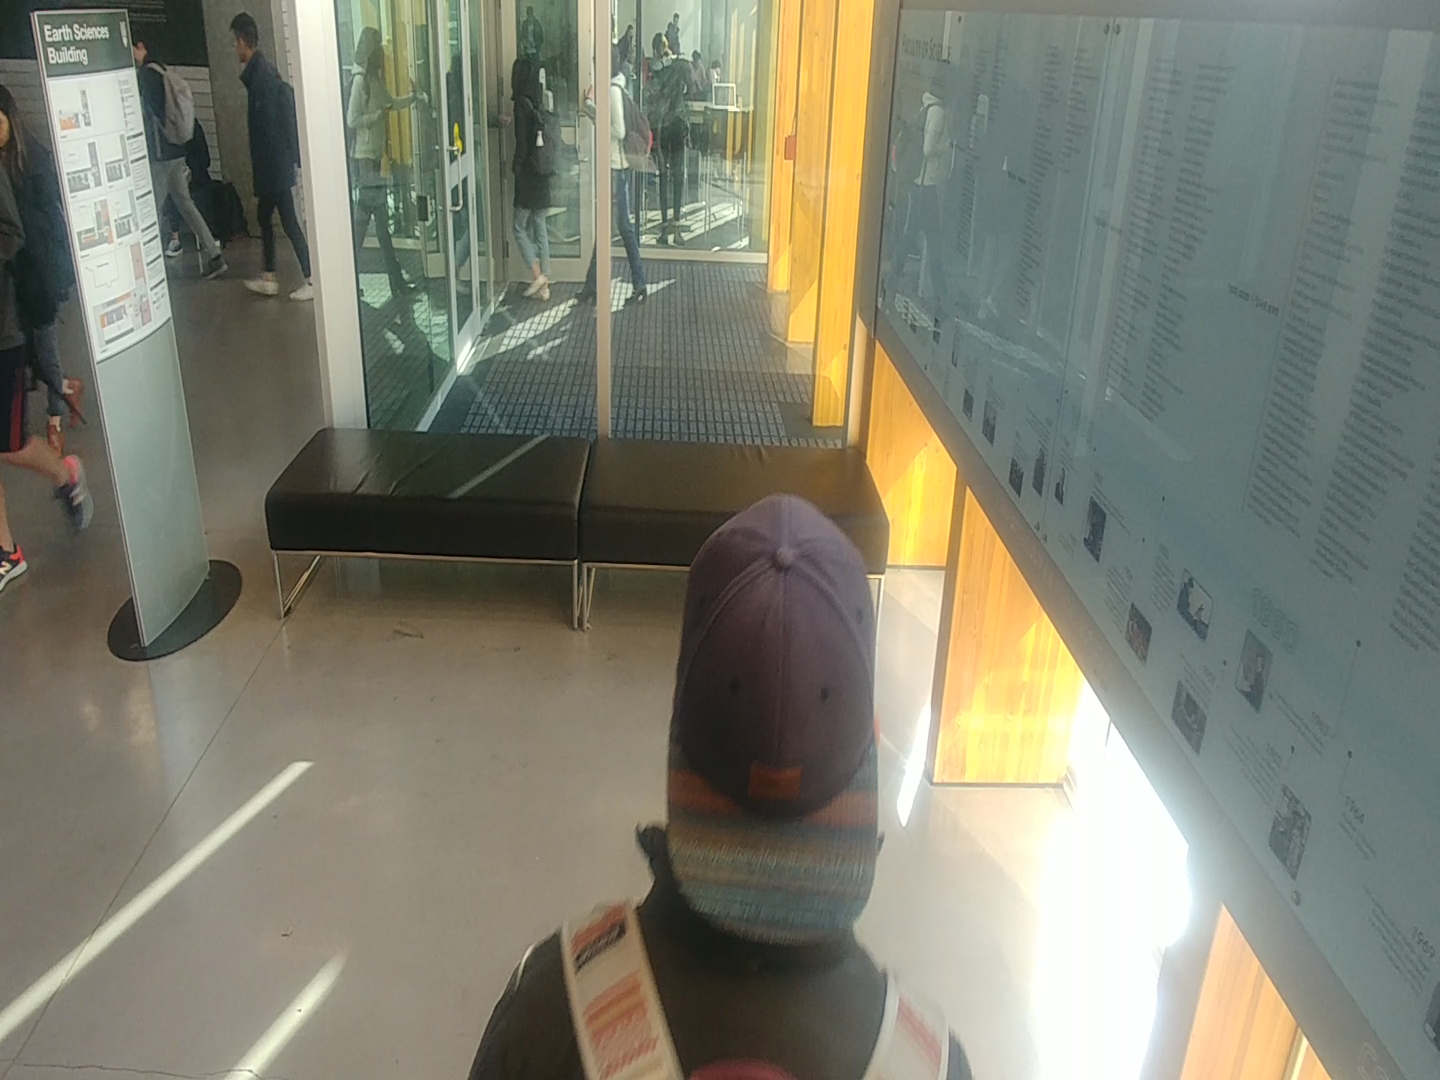face: (643, 473, 911, 955), (492, 48, 550, 114), (224, 0, 276, 68), (634, 20, 678, 71)
human: (452, 474, 990, 1080), (212, 2, 311, 309), (123, 25, 228, 299), (342, 22, 426, 315), (489, 44, 566, 314), (629, 27, 705, 254)
